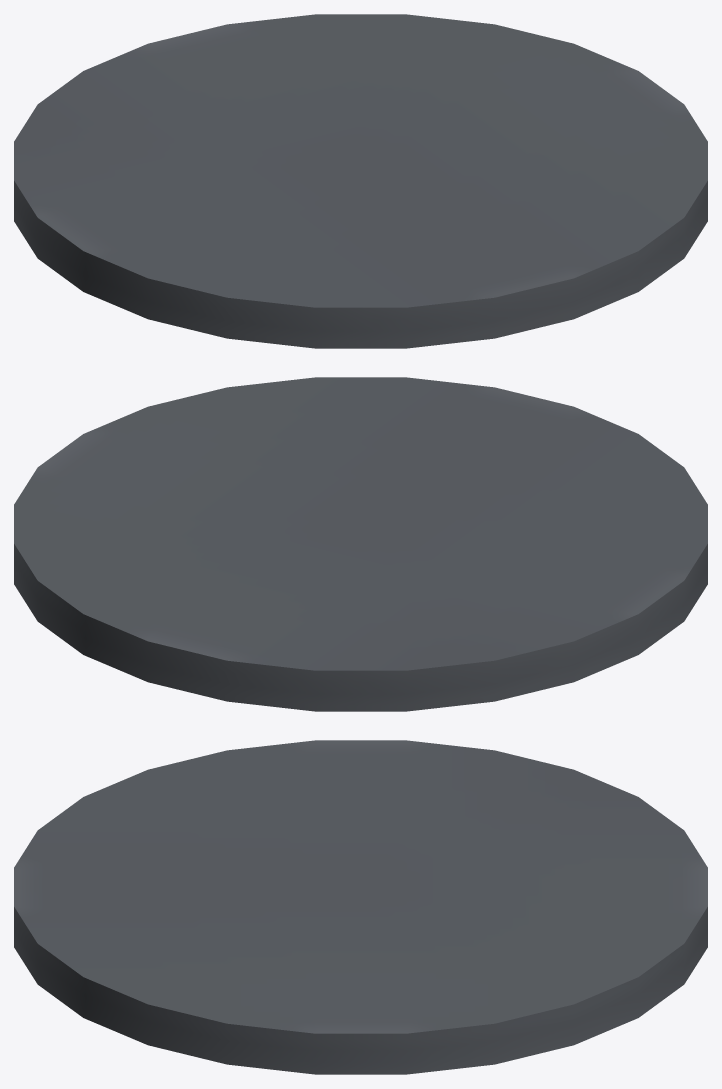
The model's file is lid_closed.obj.
3 renders of one model, top to bottom at view 1: azimuth 30°, elevation 25°; view 2: azimuth 150°, elevation 25°; view 3: azimuth 270°, elevation 25°, orthographic.
Visible parts, largest first — view 1: fuel_fill_cover__lid_closed__lid; view 2: fuel_fill_cover__lid_closed__lid; view 3: fuel_fill_cover__lid_closed__lid.
Part boxes in pixels (bbox=[...]): fuel_fill_cover__lid_closed__lid: bbox=[14, 14, 707, 348]; fuel_fill_cover__lid_closed__lid: bbox=[14, 377, 707, 711]; fuel_fill_cover__lid_closed__lid: bbox=[14, 740, 707, 1074].
Bounding box in the file's own units: 0.5577 × 0.0362 × 0.5577.
